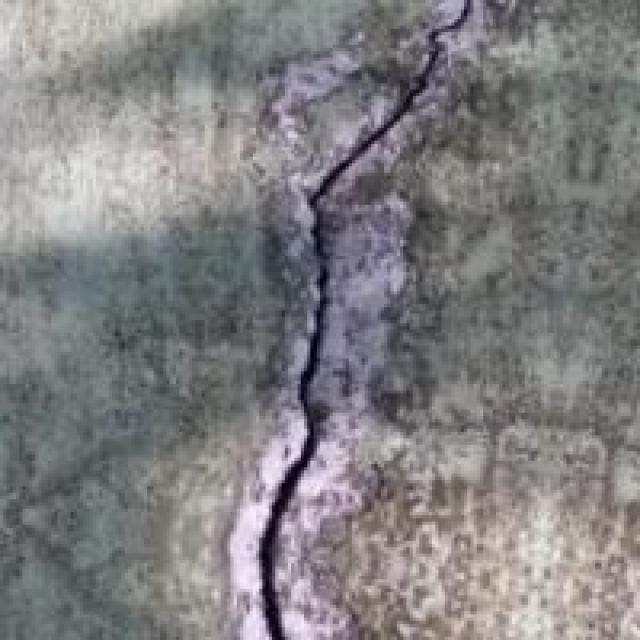Crack: (221, 3, 490, 637)
